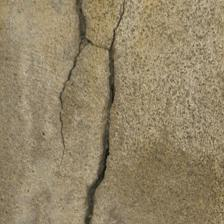Crack: (0, 0, 157, 88), (10, 7, 120, 82)
